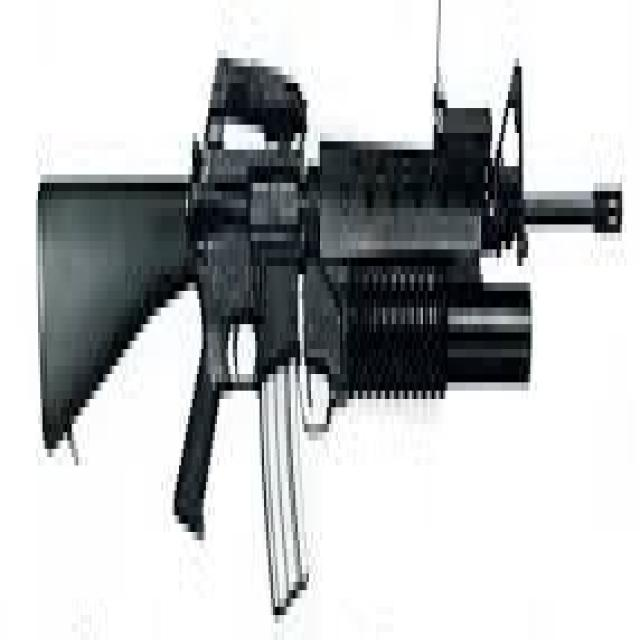rifle: (25, 8, 627, 617)
